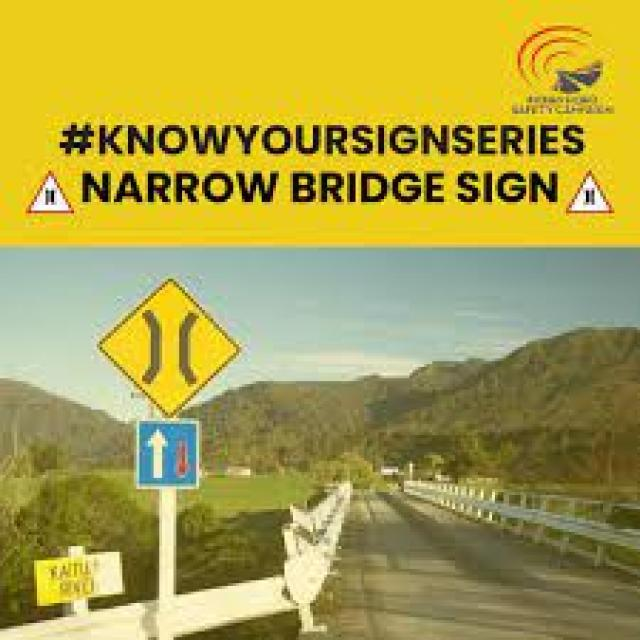narrow bridge ahead: (86, 269, 243, 417)
